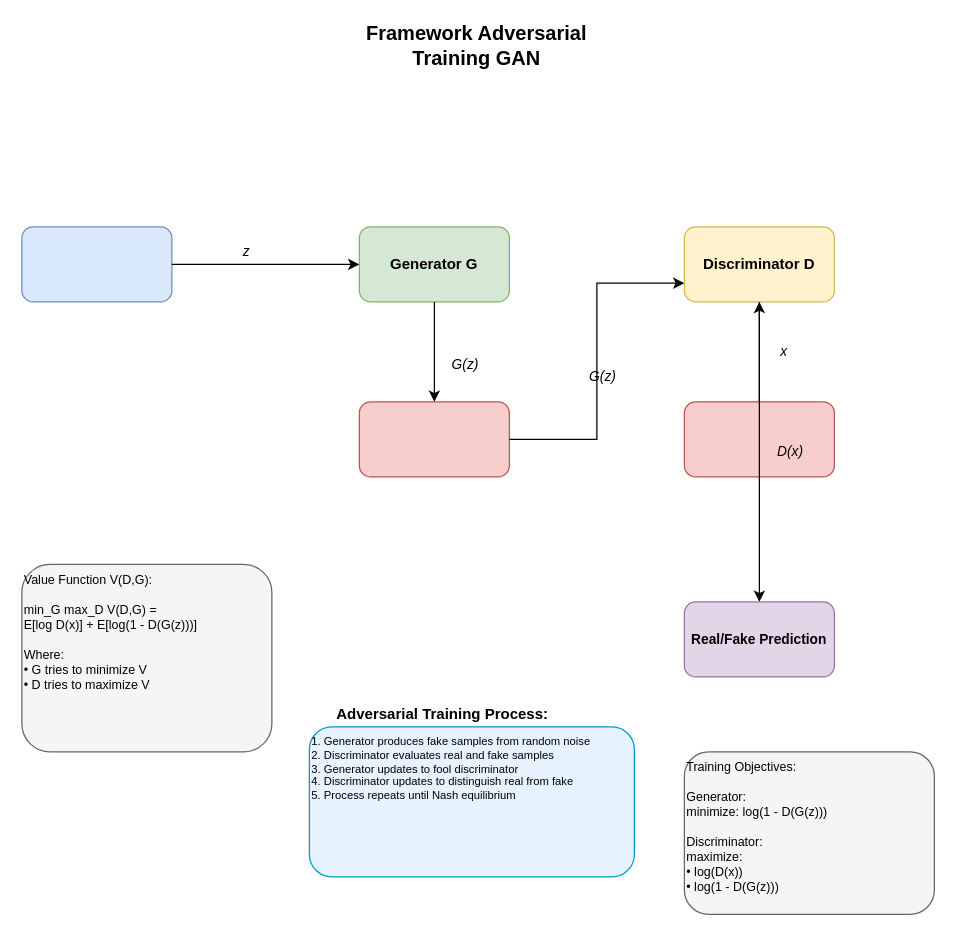
Image size: 956x936. Some labels were removed from this diagram. Each missing label, with the box of its shape:
Generated Sample G(z): (358, 401, 509, 477)
Random Noise z: (21, 226, 172, 302)
Real Sample x: (683, 401, 834, 477)
